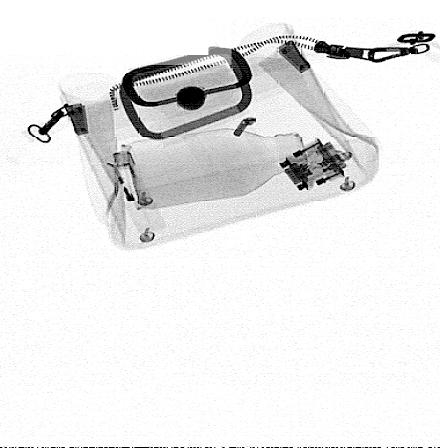Lighter: (101, 149, 167, 235)
